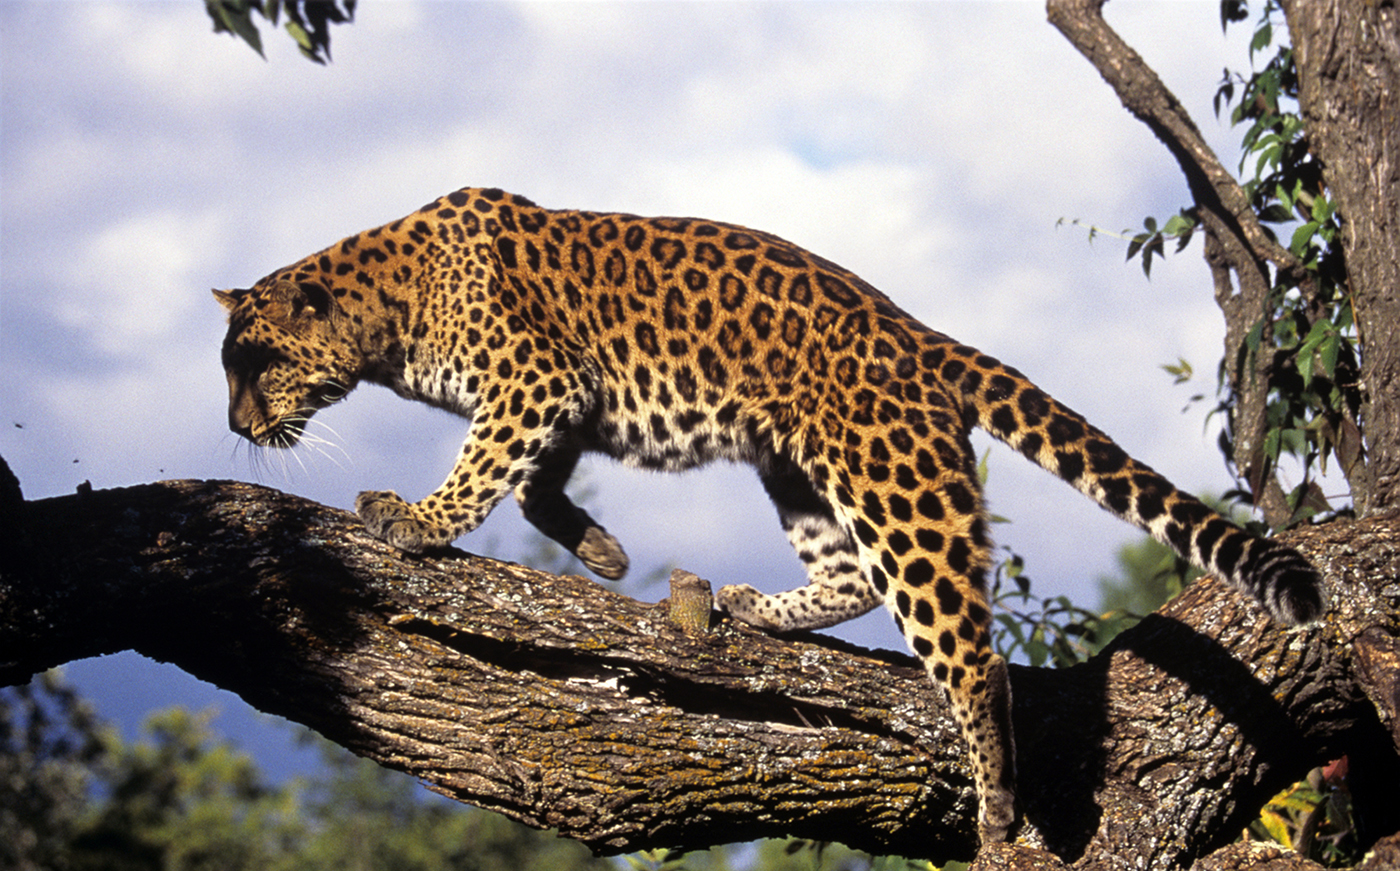amur_leopard: (189, 191, 1256, 685)
